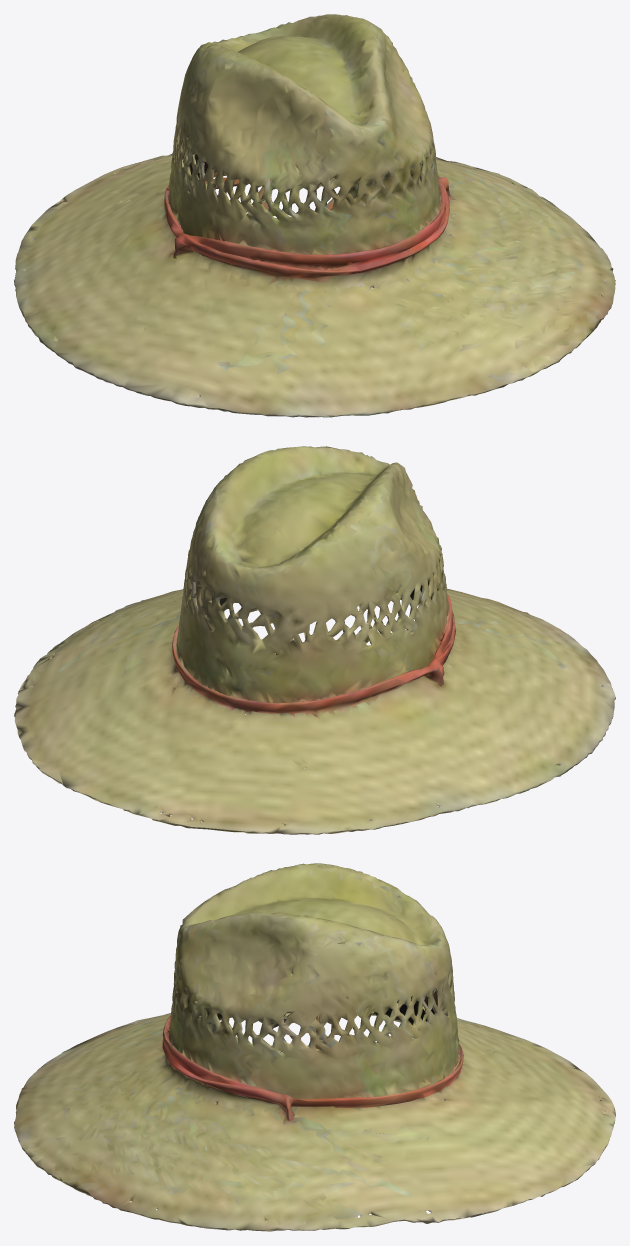
File: DPC_tropical_Trends_Hat-high.glb
3 renders of one model, top to bottom at view 1: azimuth 30°, elevation 25°; view 2: azimuth 150°, elevation 25°; view 3: azimuth 270°, elevation 25°, orthographic. The views are drawn at different scales.
Visible parts, largest first — view 1: DPC_tropical_Trends_Hat; view 2: DPC_tropical_Trends_Hat; view 3: DPC_tropical_Trends_Hat.
Boxes of the visible parts, x1,y1,x2,y2 form: DPC_tropical_Trends_Hat: (14,14,615,417); DPC_tropical_Trends_Hat: (14,446,615,834); DPC_tropical_Trends_Hat: (14,863,615,1231).
Size of the model in its own units: 0.3763 by 0.1718 by 0.4039.
1 material, 1 textured.
